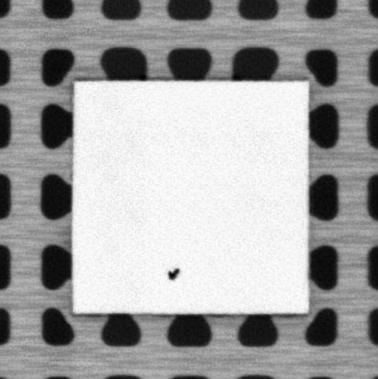DIE_INK: (167, 266, 180, 281)
